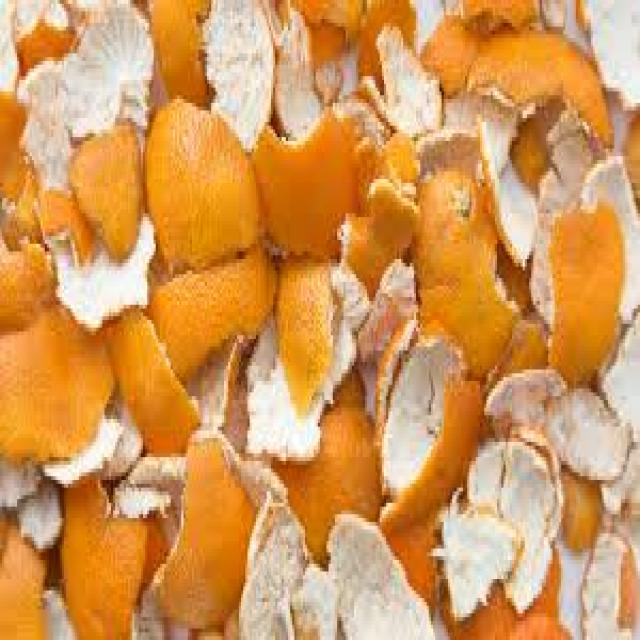Organik: (0, 0, 640, 640), (140, 100, 417, 478)
